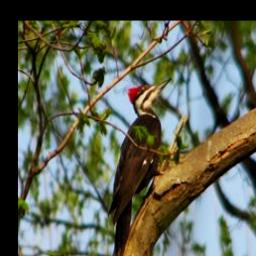Woodpecker: (106, 73, 176, 256)
